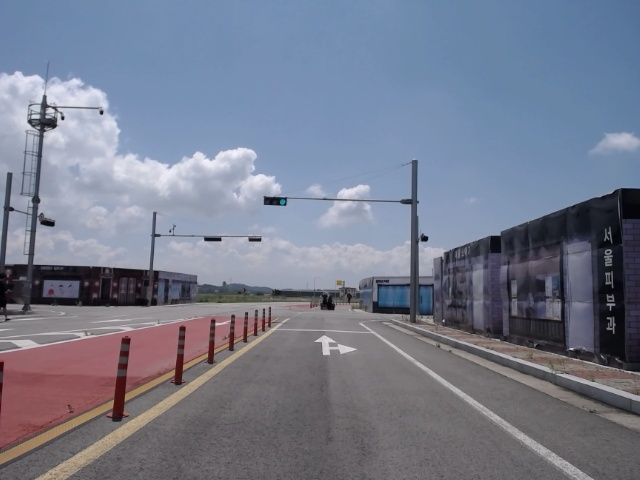green_3: (265, 197, 286, 205)
